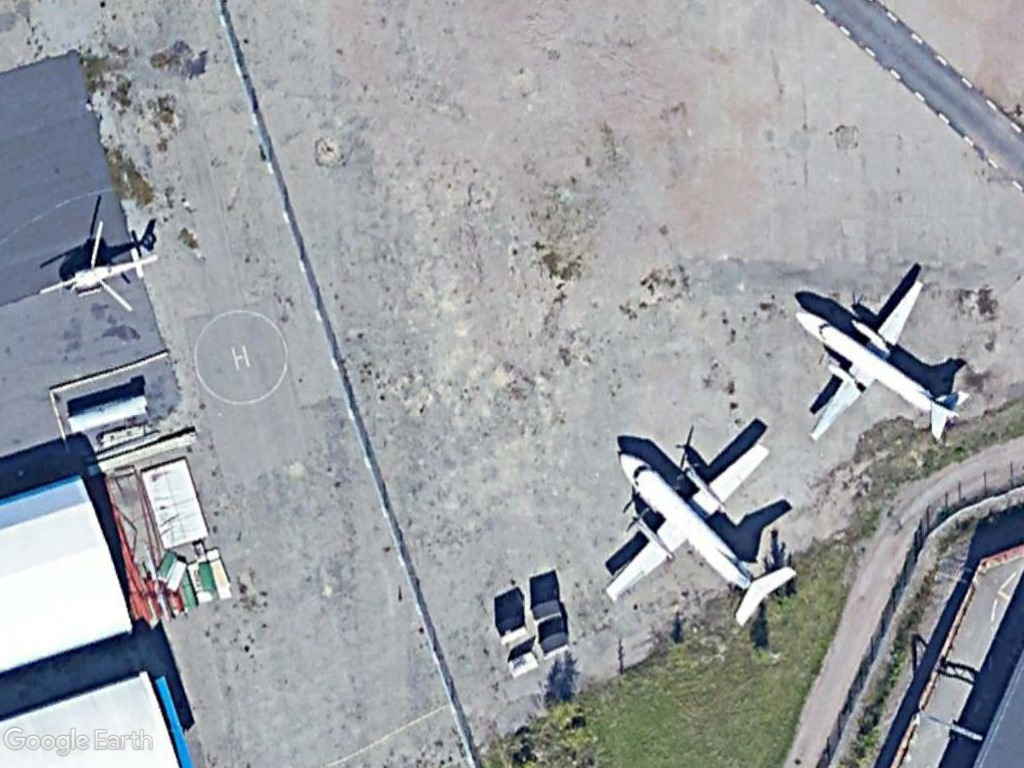helicopter: (34, 210, 174, 325)
propeller: (596, 434, 801, 629), (784, 259, 972, 451)
